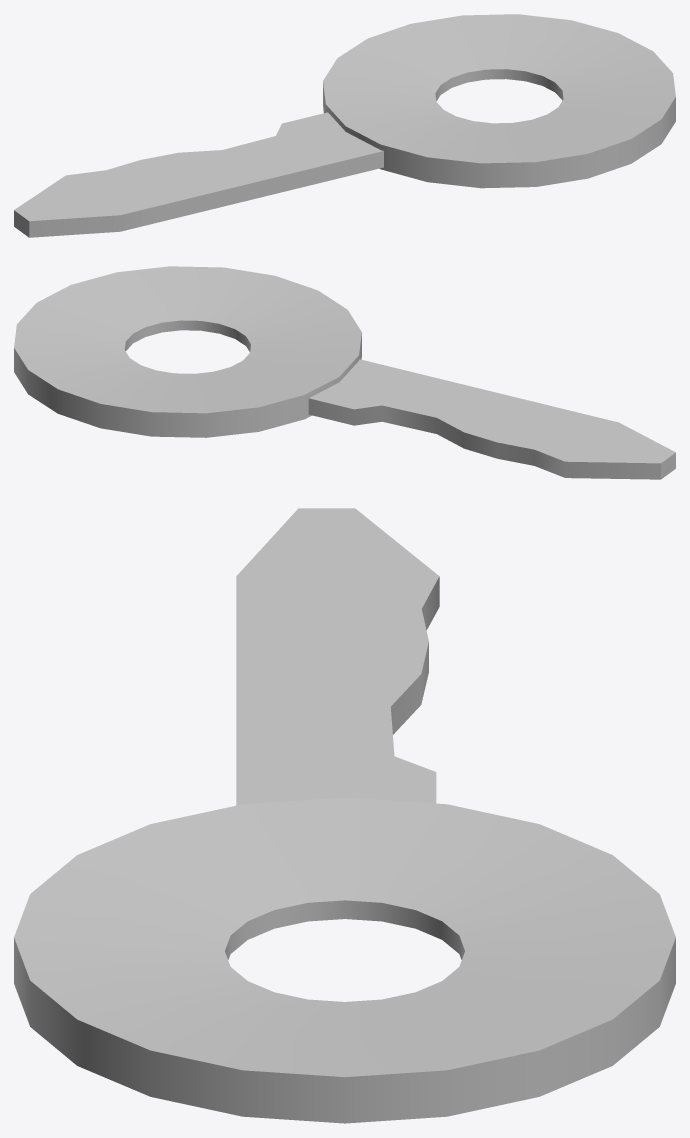
File: Key.fbx
3 views of the same model, one above another, from view 1: azimuth 30°, elevation 25°; view 2: azimuth 150°, elevation 25°; view 3: azimuth 270°, elevation 25° (orthographic). The views are drawn at different scales.
Parts seen in each view (by area): view 1: pasted__pCylinder210; view 2: pasted__pCylinder210; view 3: pasted__pCylinder210.
Boxes of the visible parts, <box> form: pasted__pCylinder210: <box>14,14,675,237</box>; pasted__pCylinder210: <box>14,266,675,479</box>; pasted__pCylinder210: <box>14,508,675,1123</box>.
Bounding box in the file's own units: 0.1599 × 0.00597 × 0.0772.
Materials: 1 (1 with a texture image).
